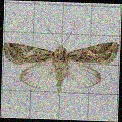Spodoptera litura: (2, 20, 120, 95)
